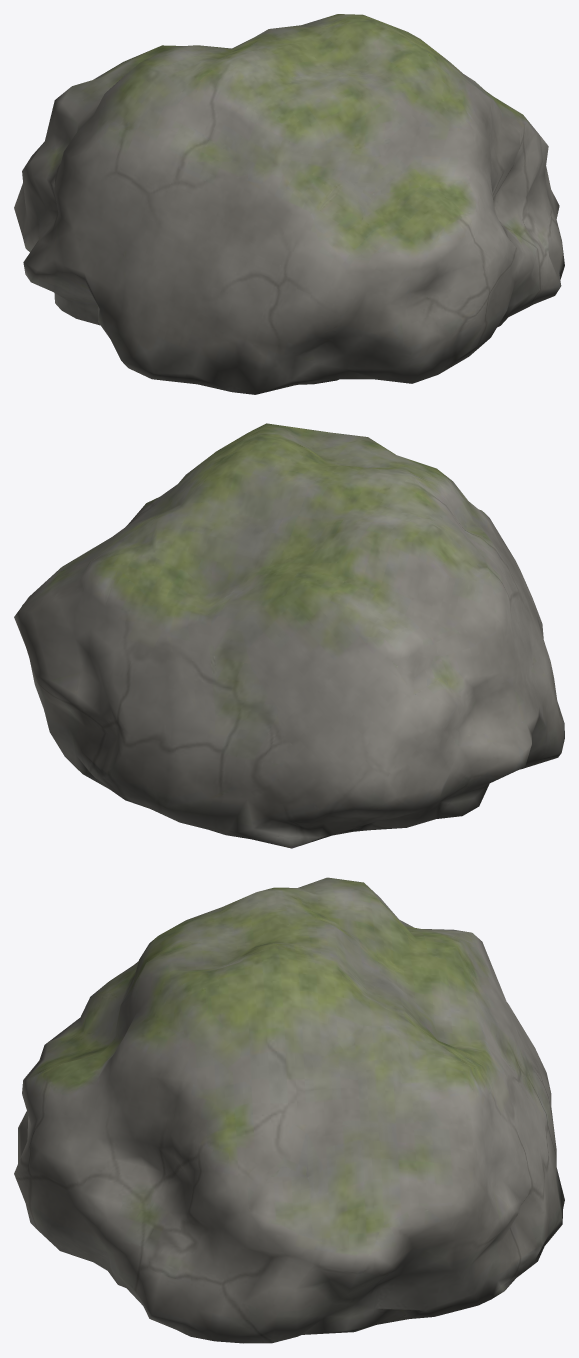
Rendered from rock_b.glb.
The picture shows the model from 3 angles, top to bottom: view 1: azimuth 30°, elevation 25°; view 2: azimuth 150°, elevation 25°; view 3: azimuth 270°, elevation 25°; orthographic projection. The views are drawn at different scales.
Parts seen in each view (by area): view 1: rock_b; view 2: rock_b; view 3: rock_b.
Boxes of the visible parts, x1=… form: rock_b: x1=14, y1=14, x2=564, y2=394; rock_b: x1=14, y1=423, x2=564, y2=848; rock_b: x1=14, y1=877, x2=564, y2=1343.
Size of the model in its own units: 2.11 by 1.18 by 1.85.
1 material, 1 textured.
